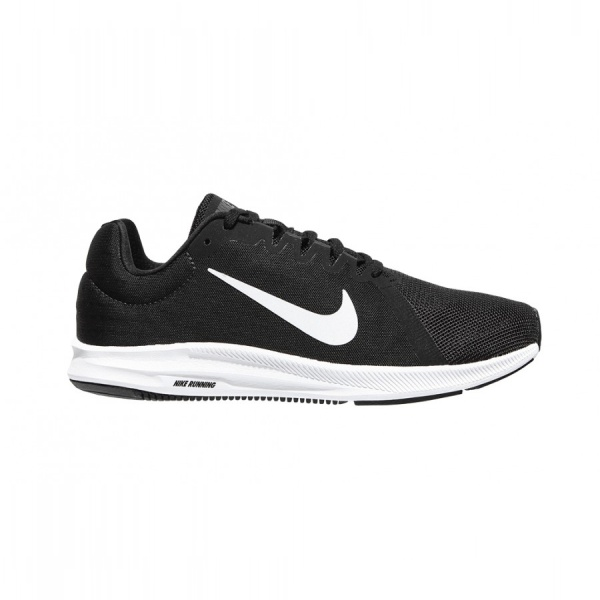nike: (203, 260, 363, 355)
